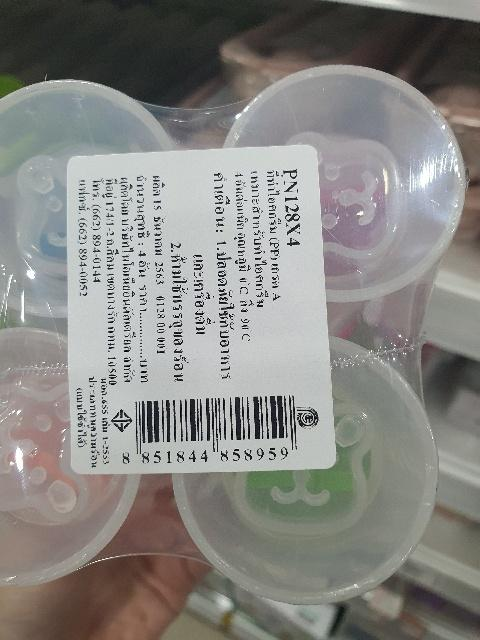Barcode: (115, 393, 297, 468)
